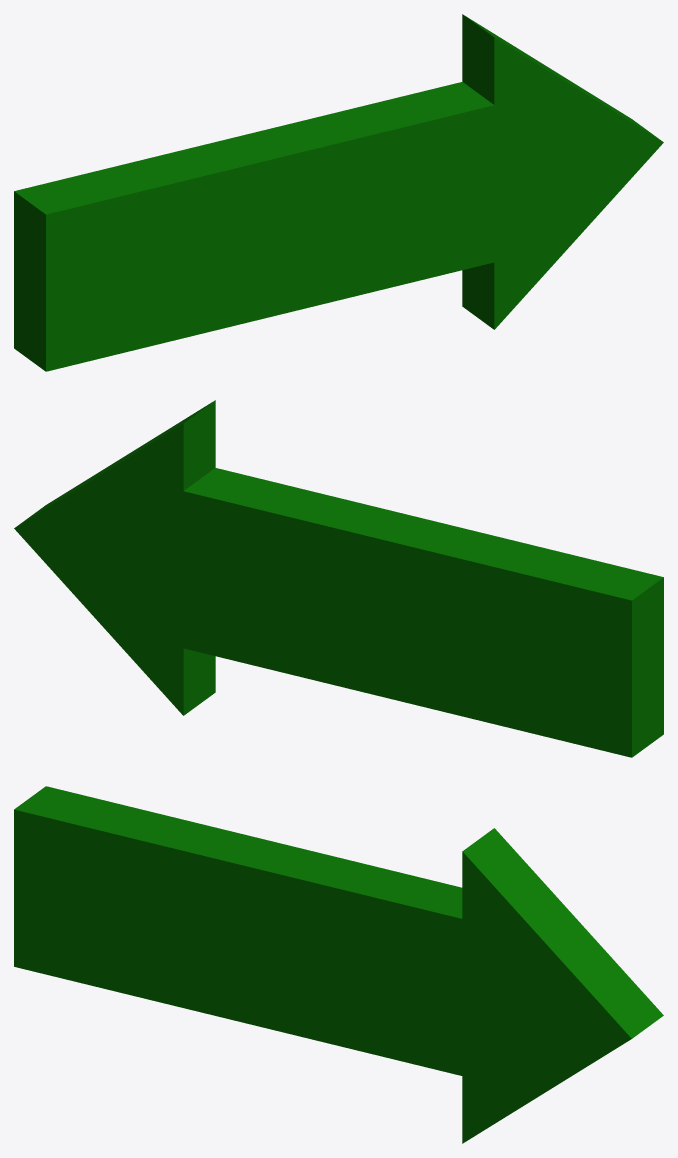
File: GreenArrow.fbx
3 renders of one model, top to bottom at view 1: azimuth 30°, elevation 25°; view 2: azimuth 150°, elevation 25°; view 3: azimuth 330°, elevation 25°, orthographic.
Parts seen in each view (by area): view 1: Arrow; view 2: Arrow; view 3: Arrow.
Part boxes in pixels (bbox=[...]): Arrow: bbox=[14, 14, 663, 371]; Arrow: bbox=[14, 400, 663, 757]; Arrow: bbox=[14, 786, 663, 1143].
Bounding box in the file's own units: 86.52 × 39.13 × 7.76.
